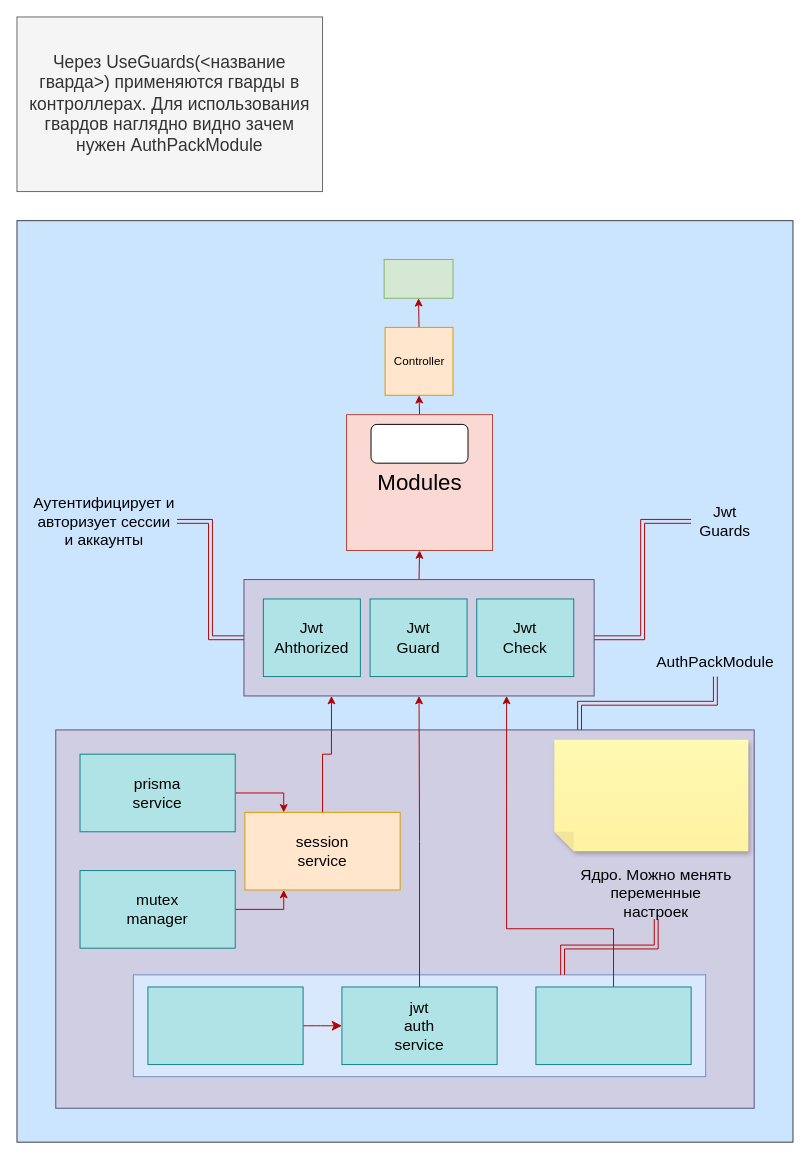
Image size: 810x1159. Some labels were removed from this diagram. The centre of each missing label's shape, as x and y in pixels:
AppModule: (419,443)
cookie settings: (613,1025)
jwt auth settings: (225,1025)
session service еще используется в своем модуле, откуда и экспортируется!: (652,796)
UseGuards(): (418,278)
